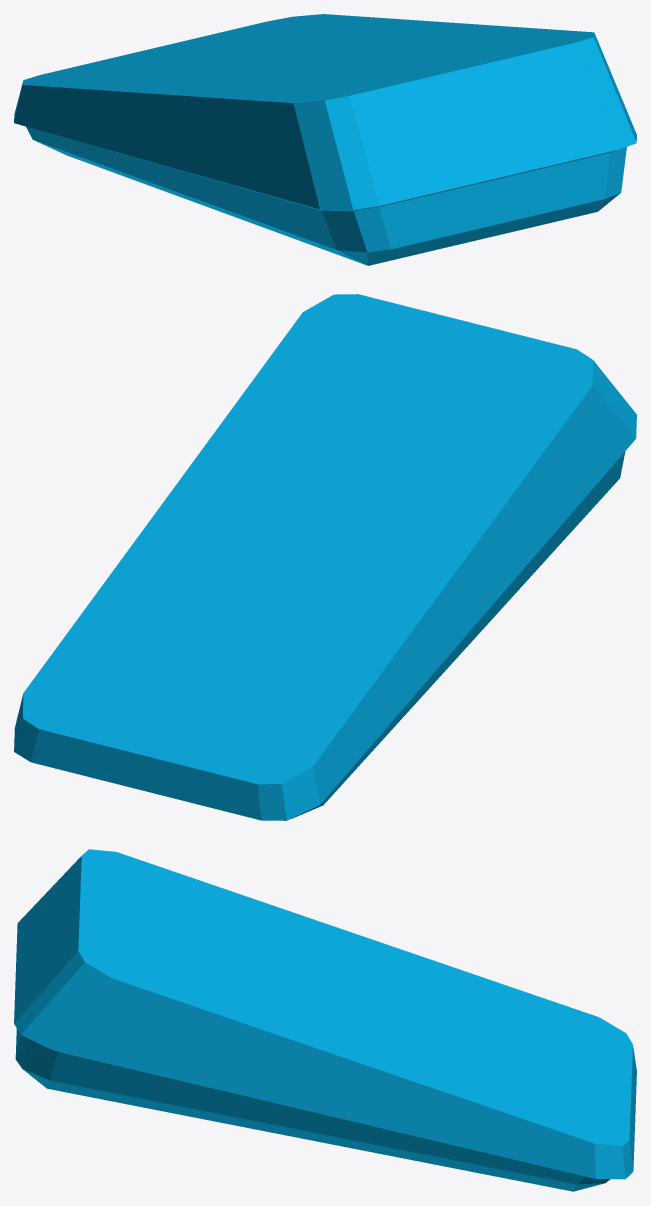
Rendered from Bank_Card_Reader_Lod1.fbx.
3 renders of one model, top to bottom at view 1: azimuth 30°, elevation 25°; view 2: azimuth 150°, elevation 25°; view 3: azimuth 270°, elevation 25°, orthographic. The views are drawn at different scales.
Visible parts, largest first — view 1: Bank_Card_Reader_Lod1; view 2: Bank_Card_Reader_Lod1; view 3: Bank_Card_Reader_Lod1.
Part boxes in pixels (x1=…): Bank_Card_Reader_Lod1: x1=14, y1=14, x2=636, y2=265; Bank_Card_Reader_Lod1: x1=14, y1=294, x2=636, y2=820; Bank_Card_Reader_Lod1: x1=14, y1=849, x2=636, y2=1191.
Bounding box in the file's own units: 11.89 × 9.46 × 22.92.
